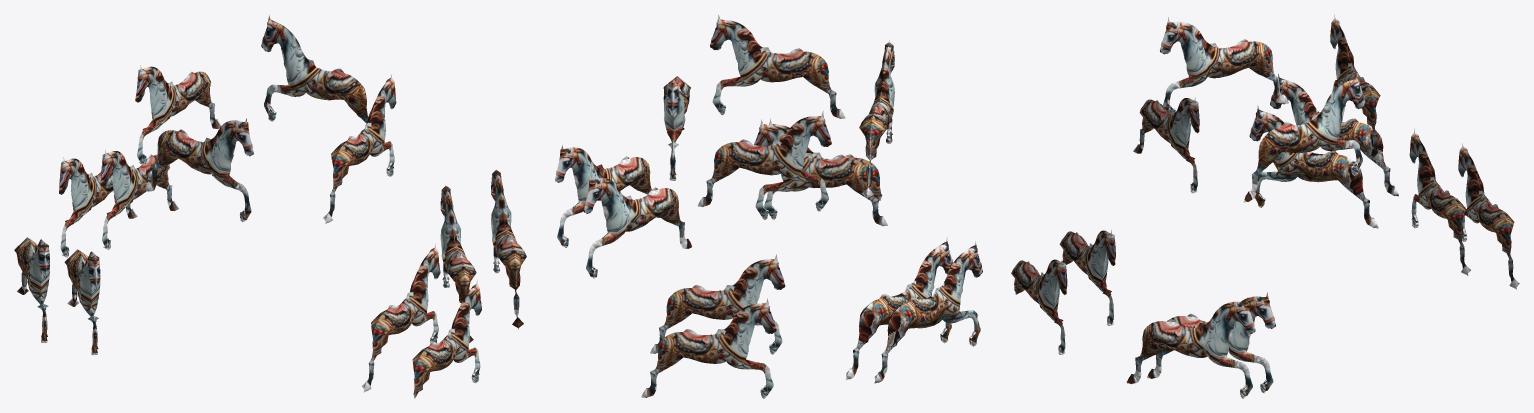
The model's file is caballos.obj.
3 renders of one model, left to right at view 1: azimuth 30°, elevation 25°; view 2: azimuth 150°, elevation 25°; view 3: azimuth 270°, elevation 25°, orthographic. The views are drawn at different scales.
Parts seen in each view (by area): view 1: caballos_M009, caballos_M010, caballos_M011, caballos_M004, caballos_M008, caballos_M005, caballos_M001, caballos_M006, caballos_M, caballos_M007, caballos_M003, caballos_M002; view 2: caballos_M008, caballos_M, caballos_M011, caballos_M001, caballos_M002, caballos_M007, caballos_M004, caballos_M006, caballos_M003, caballos_M010, caballos_M009, caballos_M005; view 3: caballos_M006, caballos_M010, caballos_M009, caballos_M003, caballos_M001, caballos_M008, caballos_M, caballos_M002, caballos_M005, caballos_M004, caballos_M007, caballos_M011.
Boxes of the visible parts, left/top/right/bottom form: caballos_M009: left=261, top=15, right=368, bottom=123; caballos_M010: left=144, top=118, right=253, bottom=222; caballos_M011: left=135, top=65, right=221, bottom=165; caballos_M004: left=362, top=243, right=440, bottom=392; caballos_M008: left=323, top=74, right=396, bottom=223; caballos_M005: left=412, top=280, right=481, bottom=398; caballos_M001: left=100, top=149, right=178, bottom=249; caballos_M006: left=491, top=169, right=526, bottom=329; caballos_M: left=59, top=157, right=137, bottom=257; caballos_M007: left=440, top=185, right=476, bottom=342; caballos_M003: left=64, top=249, right=100, bottom=355; caballos_M002: left=14, top=237, right=49, bottom=343; caballos_M008: left=710, top=15, right=845, bottom=118; caballos_M: left=641, top=298, right=776, bottom=398; caballos_M011: left=697, top=111, right=831, bottom=211; caballos_M001: left=650, top=254, right=785, bottom=354; caballos_M002: left=874, top=241, right=982, bottom=383; caballos_M007: left=584, top=175, right=692, bottom=278; caballos_M004: left=754, top=119, right=887, bottom=226; caballos_M006: left=555, top=145, right=659, bottom=247; caballos_M003: left=845, top=237, right=953, bottom=379; caballos_M010: left=859, top=40, right=894, bottom=199; caballos_M009: left=663, top=76, right=690, bottom=180; caballos_M005: left=764, top=119, right=882, bottom=219; caballos_M006: left=1126, top=297, right=1255, bottom=398; caballos_M010: left=1160, top=17, right=1288, bottom=113; caballos_M009: left=1243, top=73, right=1365, bottom=202; caballos_M003: left=1249, top=105, right=1378, bottom=228; caballos_M001: left=1409, top=129, right=1470, bottom=275; caballos_M008: left=1133, top=97, right=1199, bottom=193; caballos_M: left=1458, top=143, right=1519, bottom=289; caballos_M002: left=1270, top=73, right=1398, bottom=196; caballos_M005: left=1011, top=259, right=1067, bottom=354; caballos_M004: left=1059, top=230, right=1115, bottom=325; caballos_M007: left=1147, top=292, right=1275, bottom=393; caballos_M011: left=1330, top=15, right=1383, bottom=162.
Bounding box in the file's own units: 76.15 × 44.93 × 78.54.
